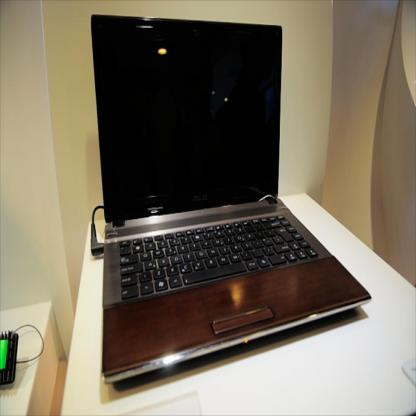board: (86, 12, 372, 386)
